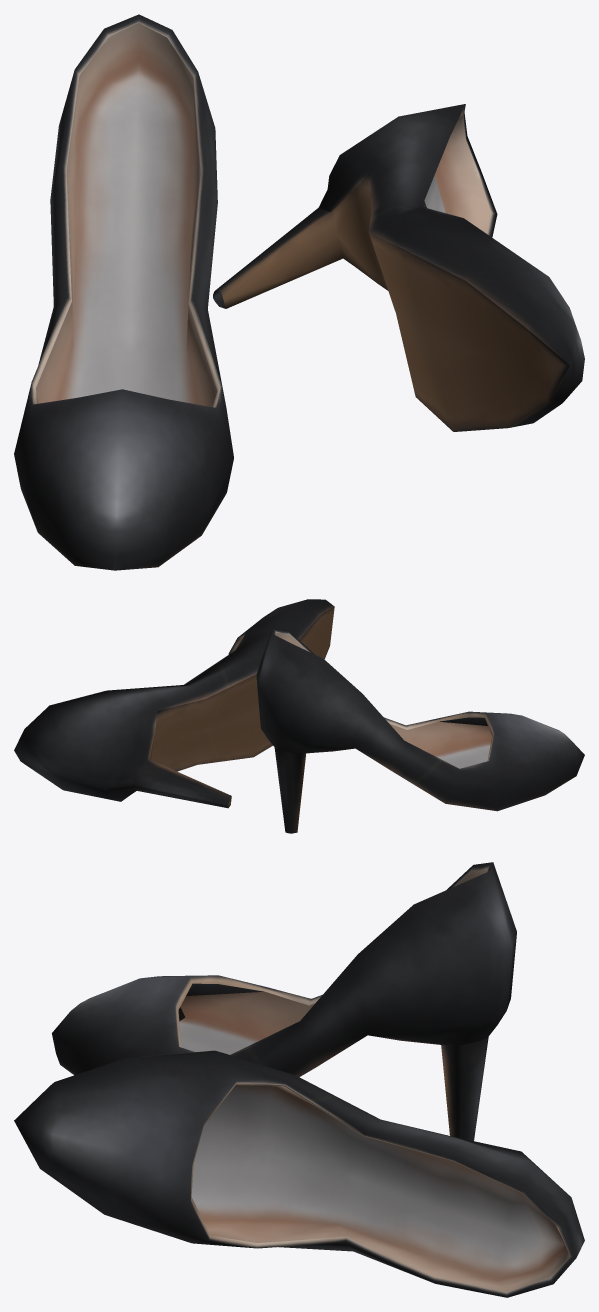
Rendered from G_XianYiRenJia_01_gaogenxie_01.FBX.
3 views of the same model, one above another, from view 1: azimuth 30°, elevation 25°; view 2: azimuth 150°, elevation 25°; view 3: azimuth 270°, elevation 25° (orthographic). The views are drawn at different scales.
Visible parts, largest first — view 1: G_XianYiRenJia_01_gaogenxie_01; view 2: G_XianYiRenJia_01_gaogenxie_01; view 3: G_XianYiRenJia_01_gaogenxie_01.
Part boxes in pixels (left/top/right/bottom): G_XianYiRenJia_01_gaogenxie_01: left=14, top=14, right=584, bottom=570; G_XianYiRenJia_01_gaogenxie_01: left=14, top=599, right=584, bottom=833; G_XianYiRenJia_01_gaogenxie_01: left=14, top=862, right=584, bottom=1297.
Size of the model in its own units: 133 by 63.26 by 110.
